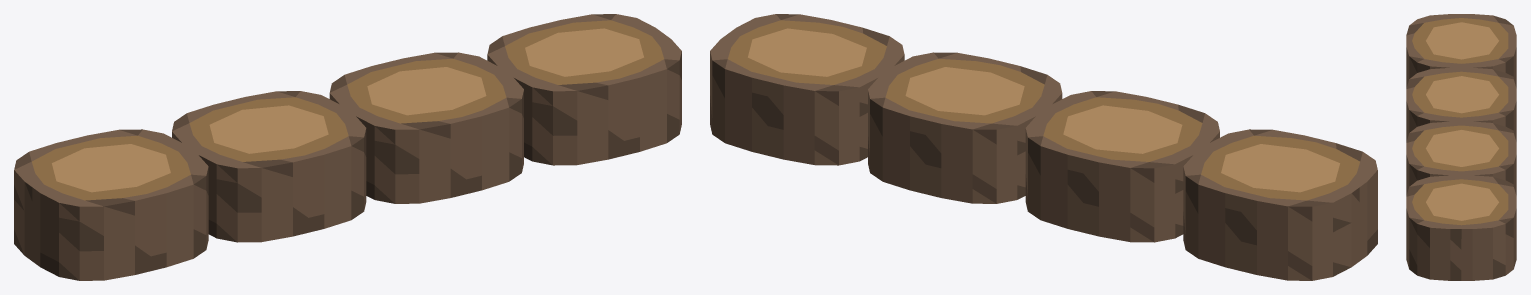
3 views of the same model, side by side, from view 1: azimuth 30°, elevation 25°; view 2: azimuth 150°, elevation 25°; view 3: azimuth 270°, elevation 25° (orthographic). The views are drawn at different scales.
Visible parts, largest first — view 1: base, base.1, base.2, base.3; view 2: base, base.1, base.2, base.3; view 3: base.3, base.2, base.1, base.
Part boxes in pixels (x1=…): base: x1=14, y1=129, x2=208, y2=280; base.1: x1=172, y1=91, x2=366, y2=242; base.2: x1=329, y1=52, x2=523, y2=203; base.3: x1=487, y1=14, x2=681, y2=165; base: x1=1183, y1=129, x2=1377, y2=280; base.1: x1=1025, y1=91, x2=1219, y2=242; base.2: x1=868, y1=52, x2=1062, y2=203; base.3: x1=710, y1=14, x2=904, y2=165; base.3: x1=1406, y1=175, x2=1516, y2=280; base.2: x1=1406, y1=121, x2=1516, y2=195; base.1: x1=1406, y1=67, x2=1516, y2=141; base: x1=1406, y1=14, x2=1516, y2=88.
Bounding box in the file's own units: 178 × 20 × 38.6.
